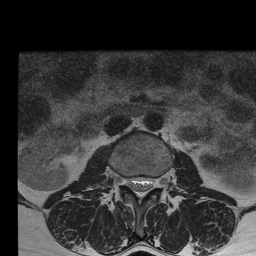CCS_normal: (135, 166, 144, 210)
LFS_normal: (154, 166, 163, 195)
LLS_normal: (144, 165, 154, 198)
RFS_normal: (118, 165, 126, 195)
RLS_normal: (126, 167, 135, 198)
